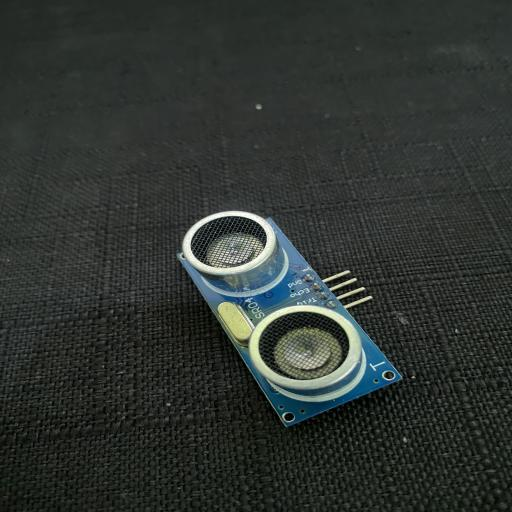Ultrasonic Sensor: (175, 210, 404, 427)
